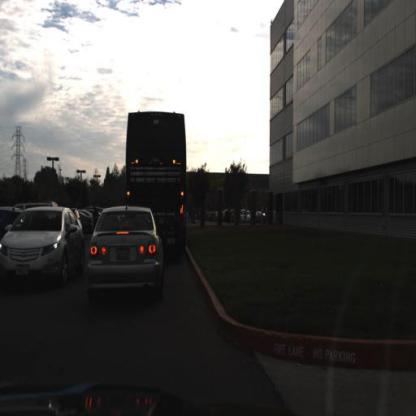car: (1, 200, 85, 285), (83, 206, 164, 289), (238, 208, 254, 226)
truck: (124, 108, 189, 238)
